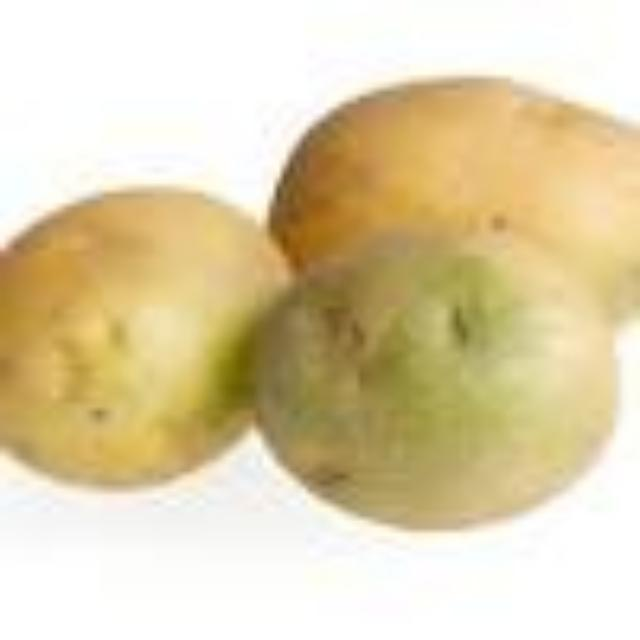Defected potato: (250, 49, 640, 378), (240, 228, 624, 542), (2, 180, 290, 520)
